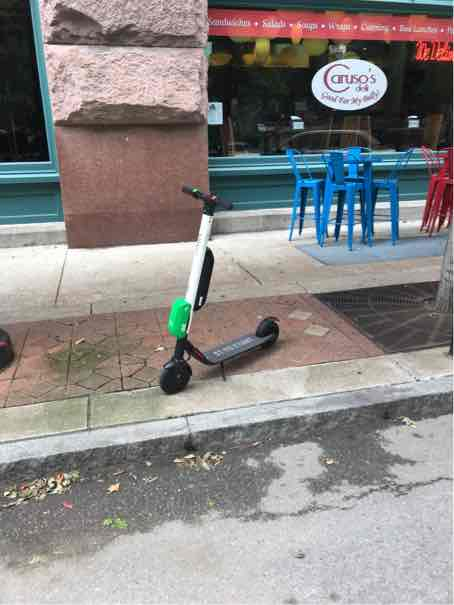scooter: (155, 179, 284, 393)
